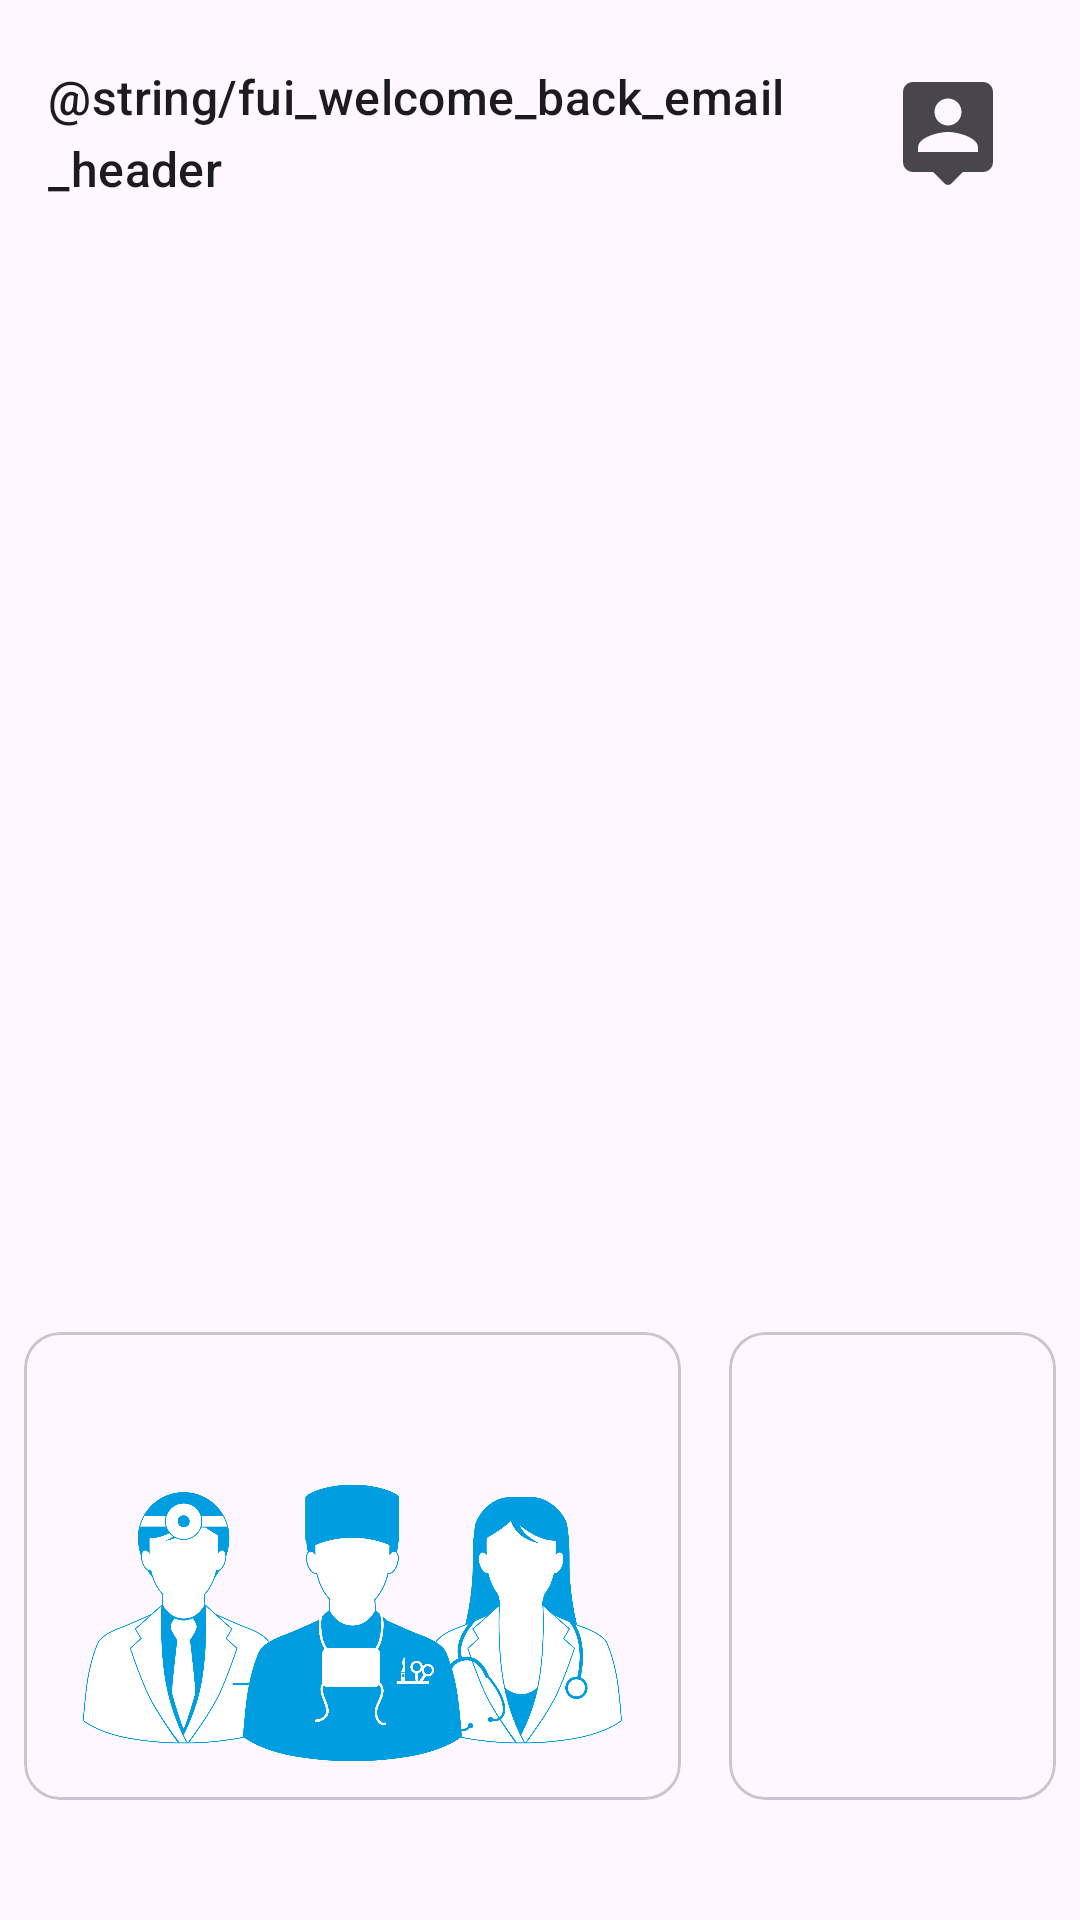

Where to tap for icons on this 1080px x 1920px app screen, as (x,y):
profile: (948,133)
